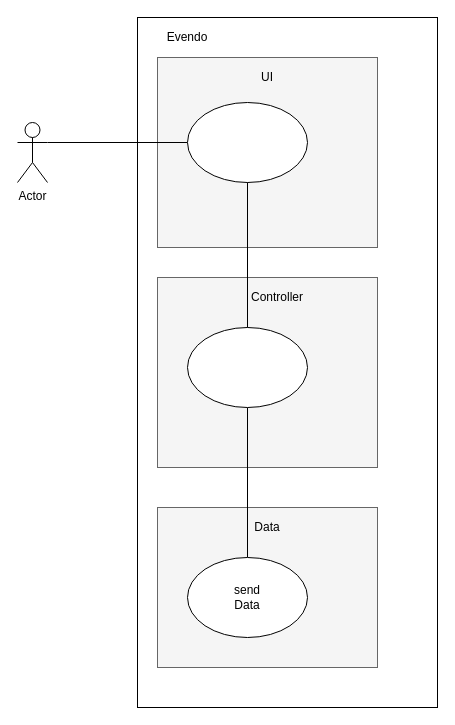
Some shapes in this 455 by 725 pixel diagram are drawn without their labels. Each missing label, with the box of its shape:
request Data / convert Data: (186, 326, 308, 408)
select Event / show Event Details: (186, 102, 308, 182)
